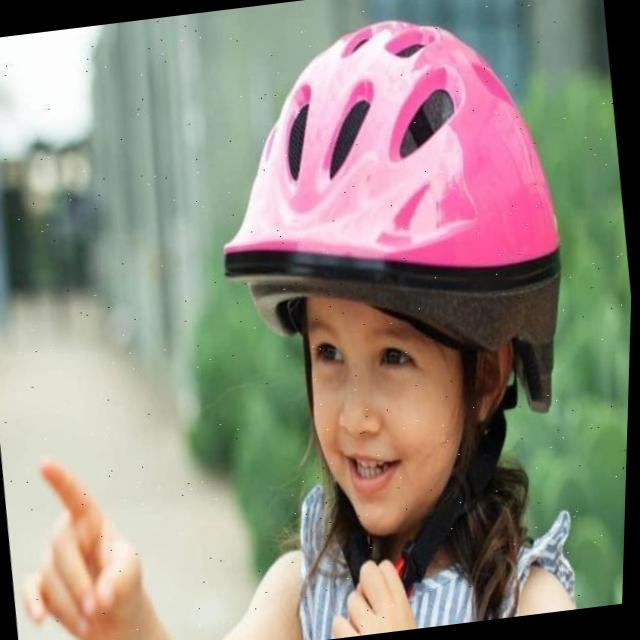helmet: (184, 0, 606, 623)
